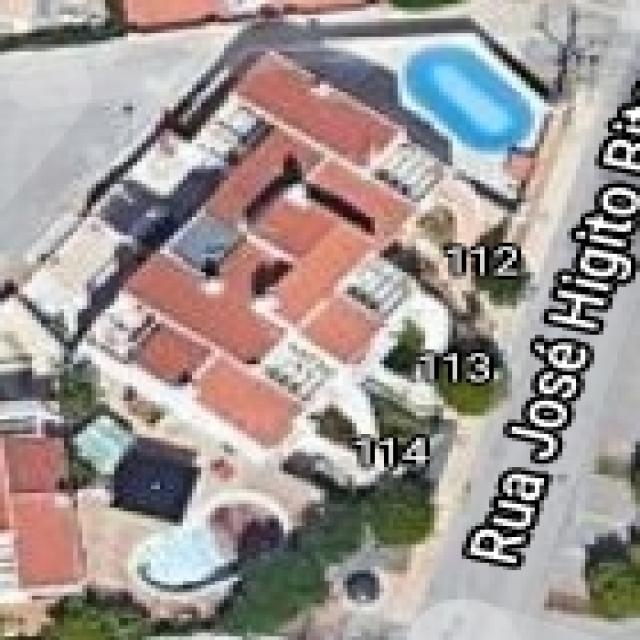pool: (98, 458, 321, 631)
